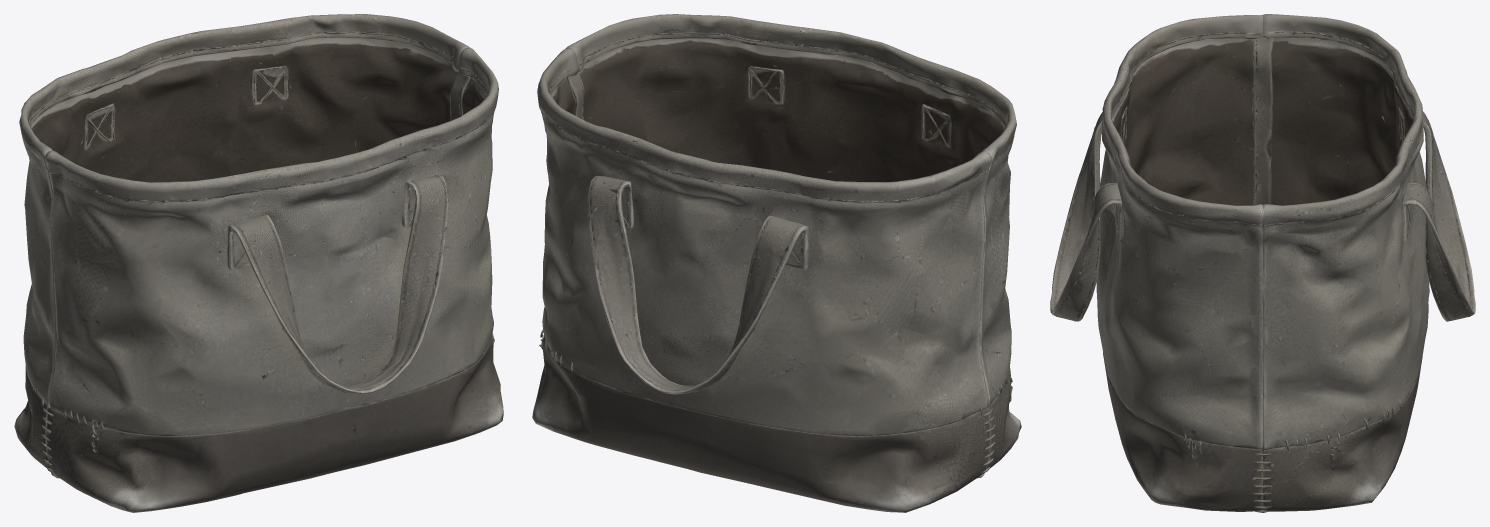
Rendered from bag.glb.
3 views of the same model, side by side, from view 1: azimuth 30°, elevation 25°; view 2: azimuth 150°, elevation 25°; view 3: azimuth 270°, elevation 25° (orthographic). The views are drawn at different scales.
Visible parts, largest first — view 1: 周秀兰的旧帆布衣袋; view 2: 周秀兰的旧帆布衣袋; view 3: 周秀兰的旧帆布衣袋.
Part boxes in pixels (x1,y1,x2,y2): 周秀兰的旧帆布衣袋: (14, 14, 503, 512); 周秀兰的旧帆布衣袋: (532, 14, 1021, 512); 周秀兰的旧帆布衣袋: (1050, 14, 1475, 512).
Size of the model in its own units: 1.9 by 1.41 by 1.73.
Materials: 1 (1 with a texture image).
